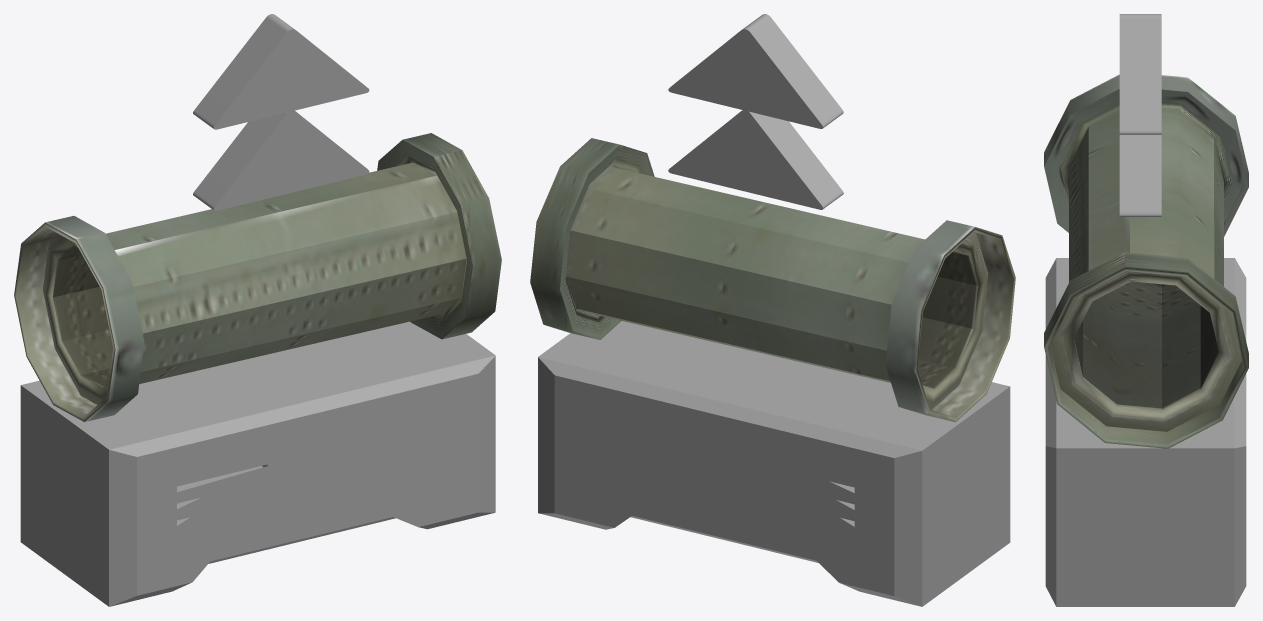
File: SpeedPipe.fbx
3 renders of one model, left to right at view 1: azimuth 30°, elevation 25°; view 2: azimuth 150°, elevation 25°; view 3: azimuth 270°, elevation 25°, orthographic.
Parts seen in each view (by area): view 1: SingleMachine3_nurbsToPoly15, pasted__extrudedSurface7, extrudedSurface8; view 2: SingleMachine3_nurbsToPoly15, pasted__extrudedSurface7, extrudedSurface8; view 3: pasted__extrudedSurface7, SingleMachine3_nurbsToPoly15, extrudedSurface8.
Boxes of the visible parts, <box> form: SingleMachine3_nurbsToPoly15: <box>20,321,495,606</box>; pasted__extrudedSurface7: <box>14,133,501,421</box>; extrudedSurface8: <box>193,14,369,210</box>; SingleMachine3_nurbsToPoly15: <box>538,321,1010,606</box>; pasted__extrudedSurface7: <box>530,138,1015,422</box>; extrudedSurface8: <box>668,14,843,209</box>; pasted__extrudedSurface7: <box>1044,74,1248,448</box>; SingleMachine3_nurbsToPoly15: <box>1045,258,1246,606</box>; extrudedSurface8: <box>1119,14,1161,216</box>.
Bounding box in the file's own units: 1.91 × 2.36 × 0.8621.
Materials: 2 (1 with a texture image).
